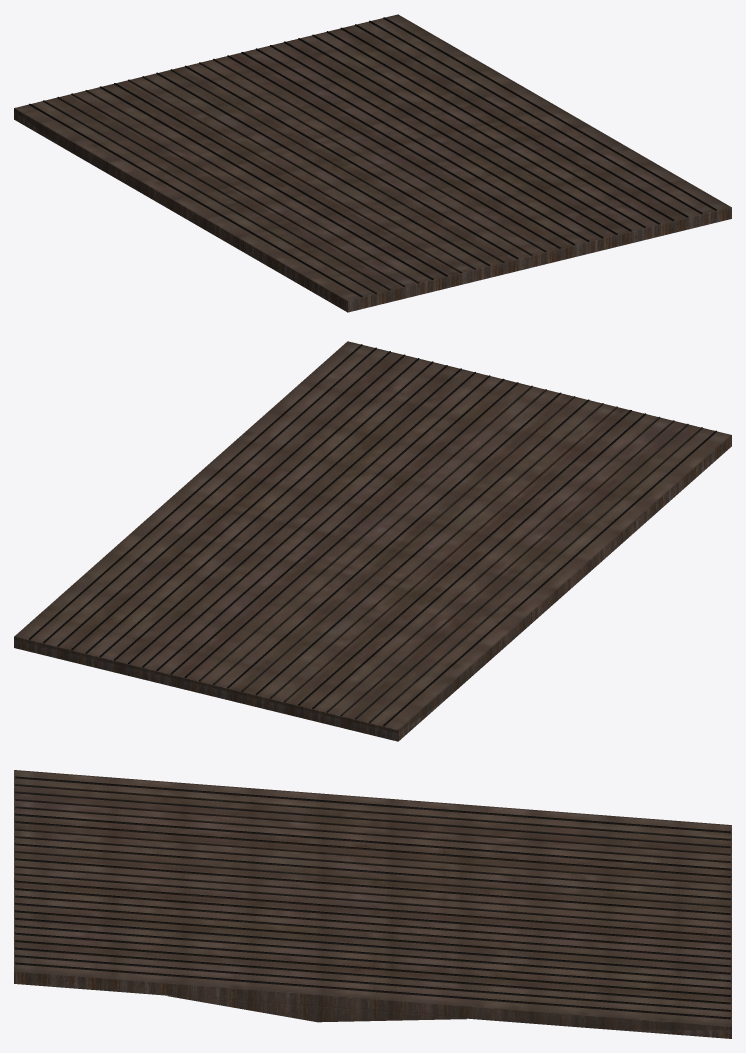
The model's file is arrival_roof.glb.
The picture shows the model from 3 angles, top to bottom: view 1: azimuth 30°, elevation 25°; view 2: azimuth 150°, elevation 25°; view 3: azimuth 270°, elevation 25°; orthographic projection. The views are drawn at different scales.
Parts seen in each view (by area): view 1: arrival_roof; view 2: arrival_roof; view 3: arrival_roof.
Boxes of the visible parts, x1,y1,x2,y2 form: arrival_roof: (14, 14, 731, 312); arrival_roof: (14, 341, 731, 741); arrival_roof: (14, 770, 731, 1038).
Bounding box in the file's own units: 16.31 × 2.57 × 24.47.
Materials: 1 (1 with a texture image).
